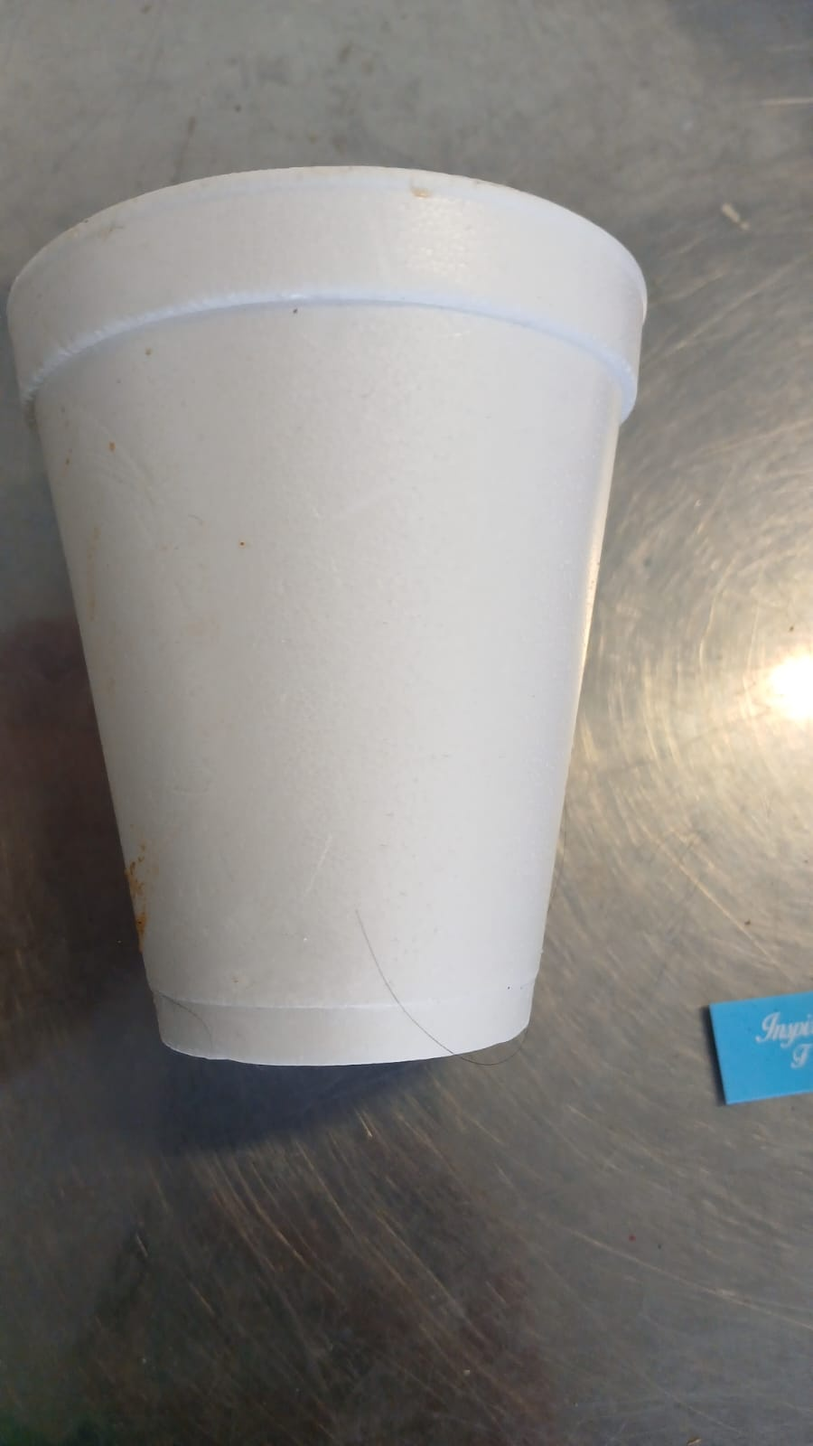Ordinario: (0, 163, 649, 1067)
